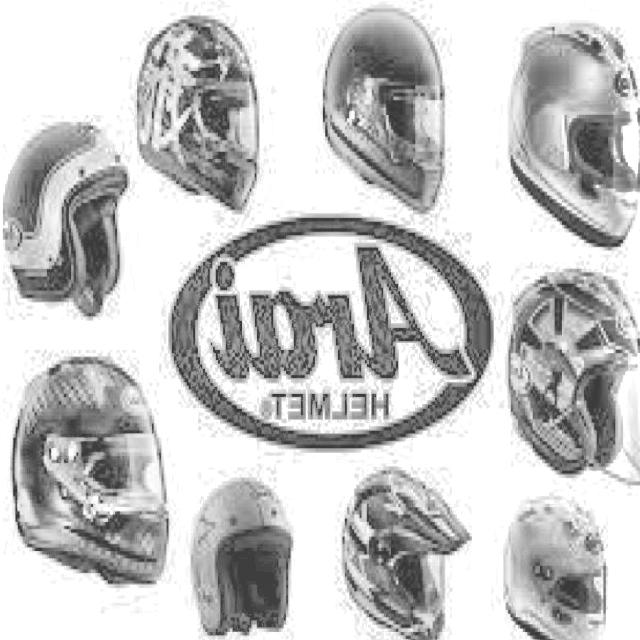Helmet: (10, 353, 176, 598), (505, 21, 640, 251), (503, 268, 640, 487), (320, 3, 449, 214), (131, 12, 266, 212), (3, 130, 126, 323), (335, 468, 470, 640), (188, 474, 302, 640), (501, 486, 611, 640)
